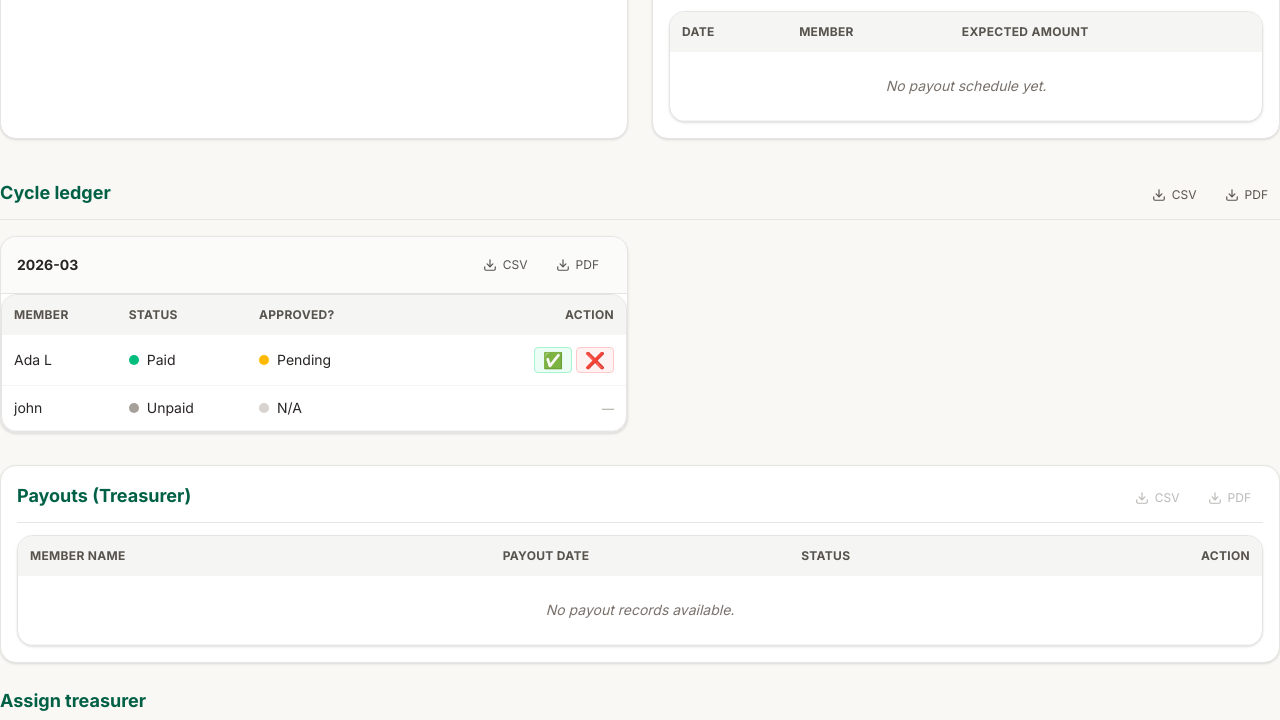
Payments › shows approval error when treasurer approval PATCH fails
(page scrolled)
Expected: the heading "Cycle ledger" is shown, [0,179,111,207]
Click the button named "approve payment for ada l" at (553, 360), box [534,347,572,373]
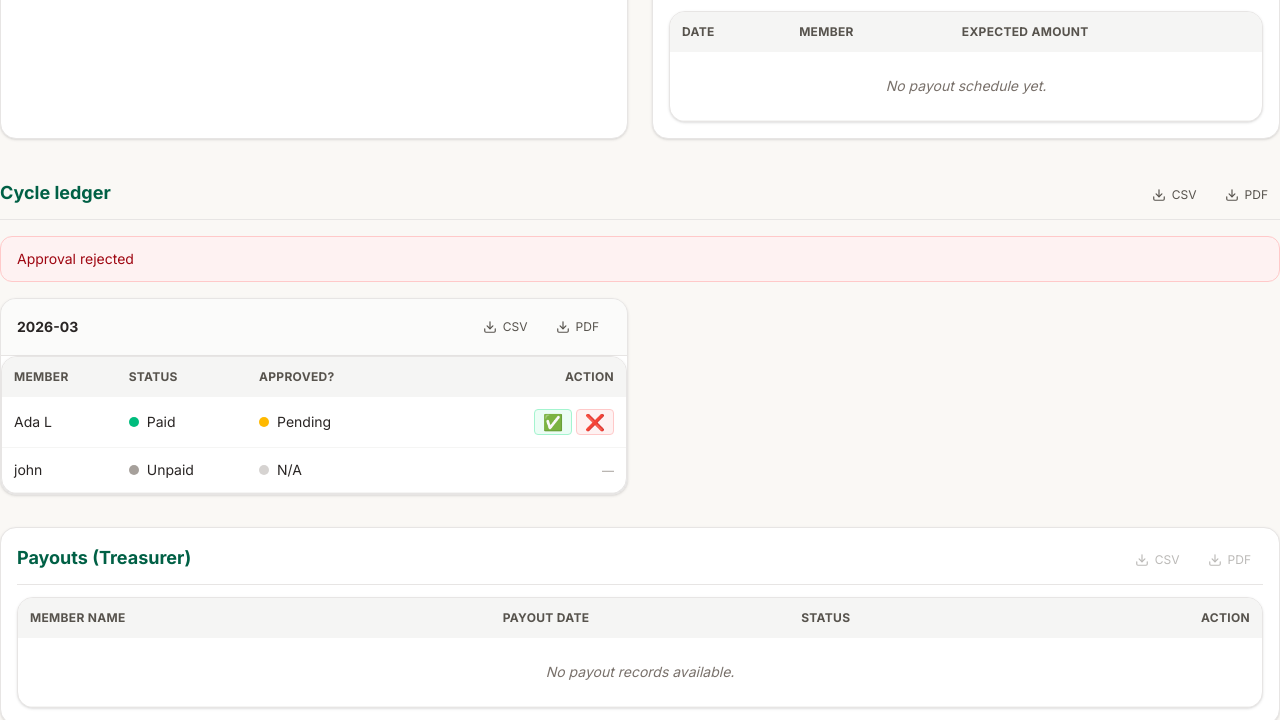
Expected: the text "Approval rejected" is shown, [0,236,1279,282]
